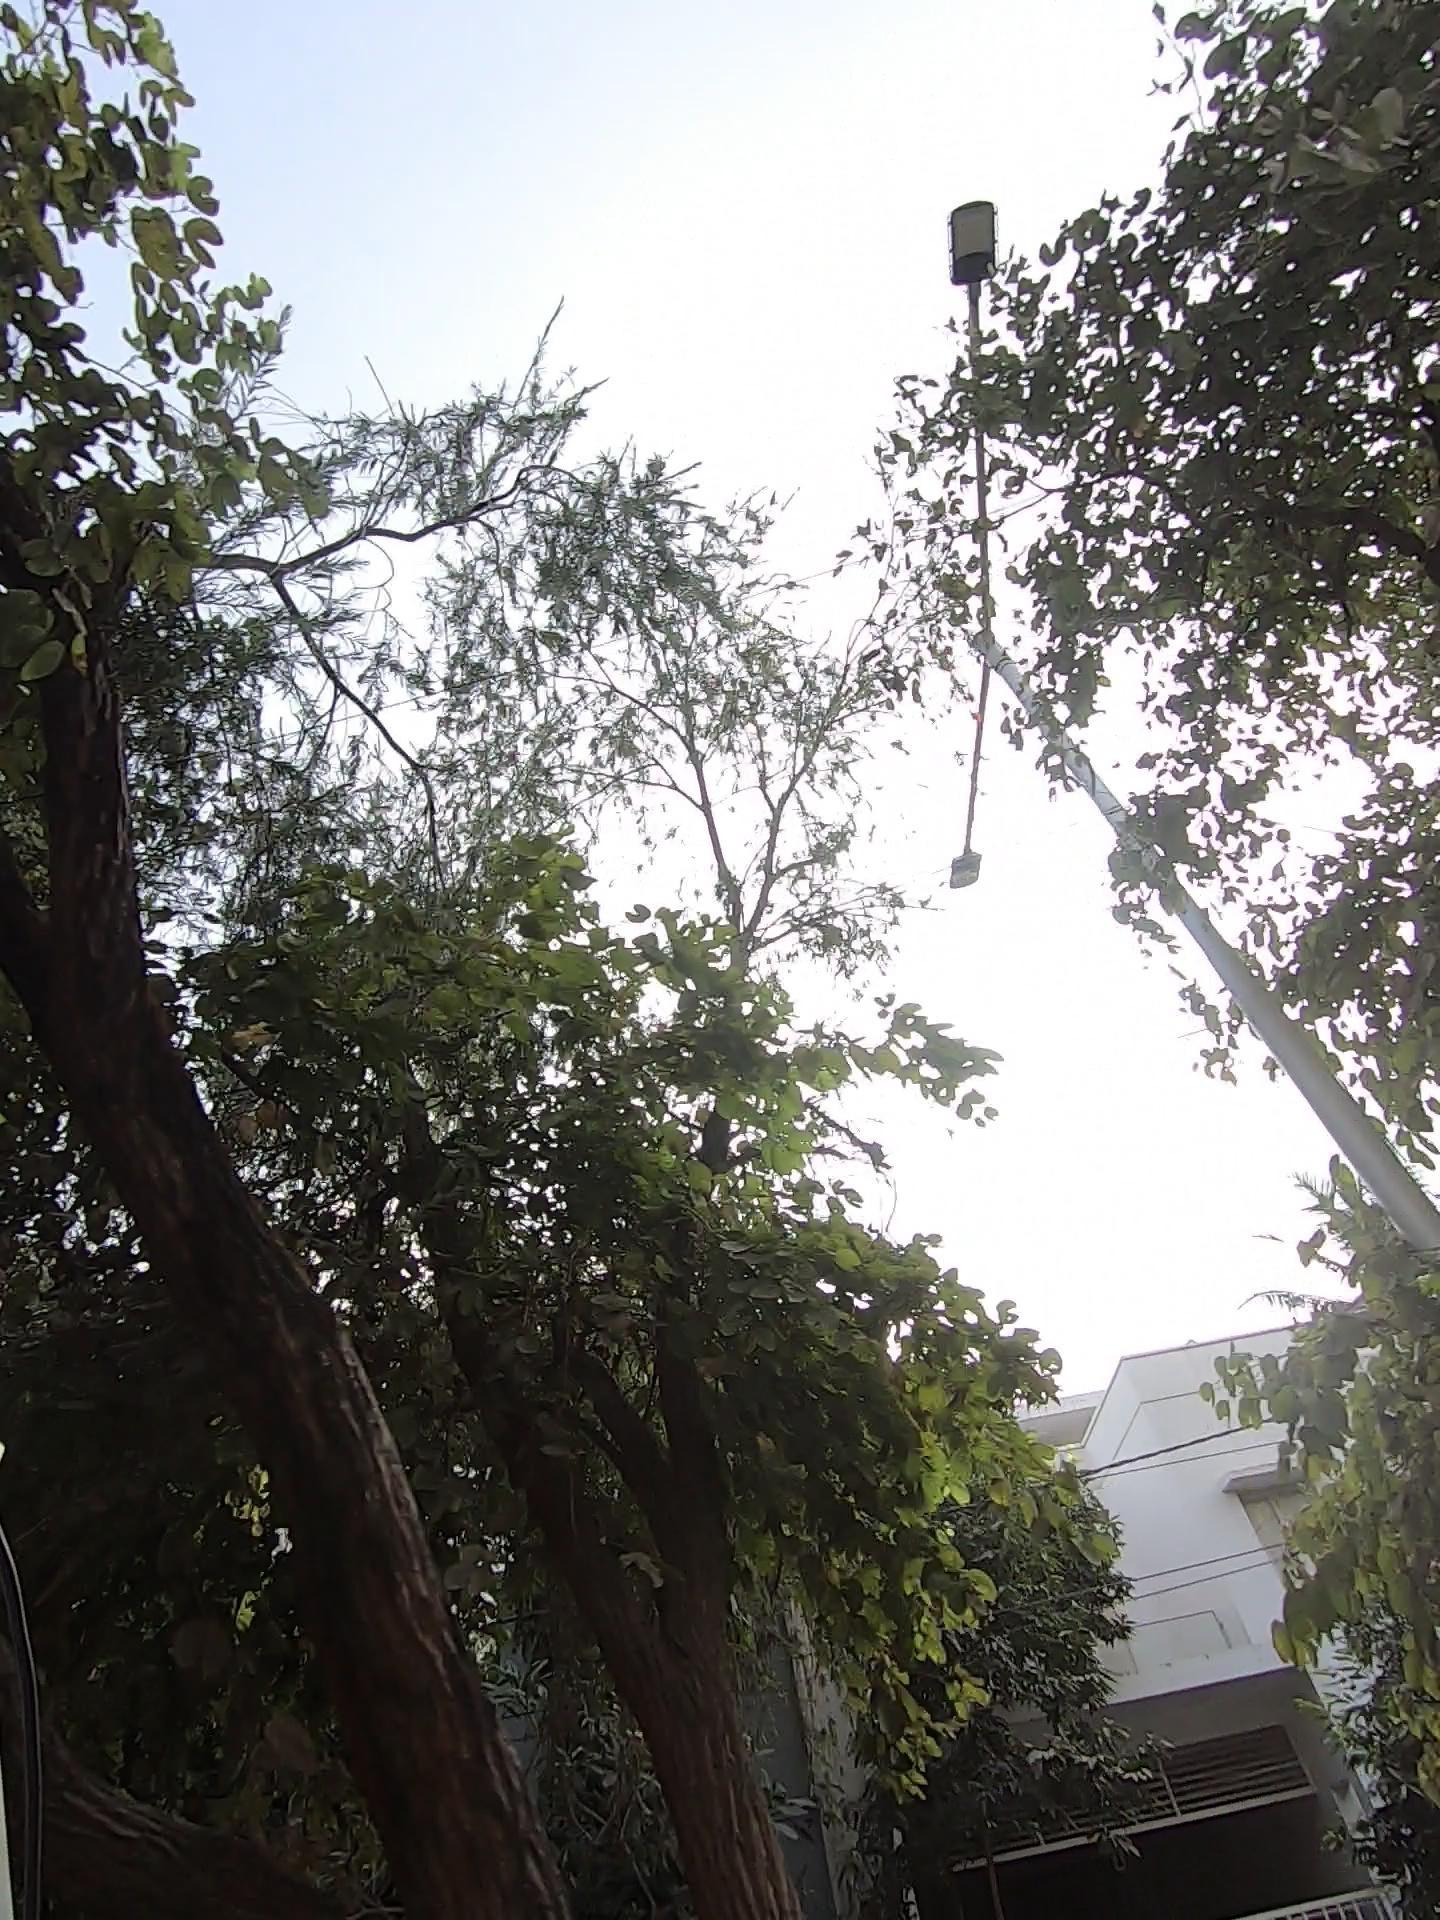off: (855, 151, 1119, 927)
